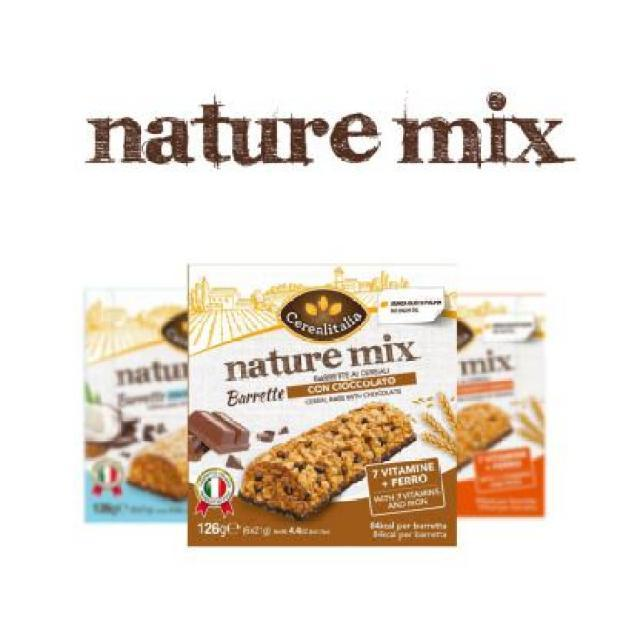Cereal bar: (172, 258, 470, 560)
